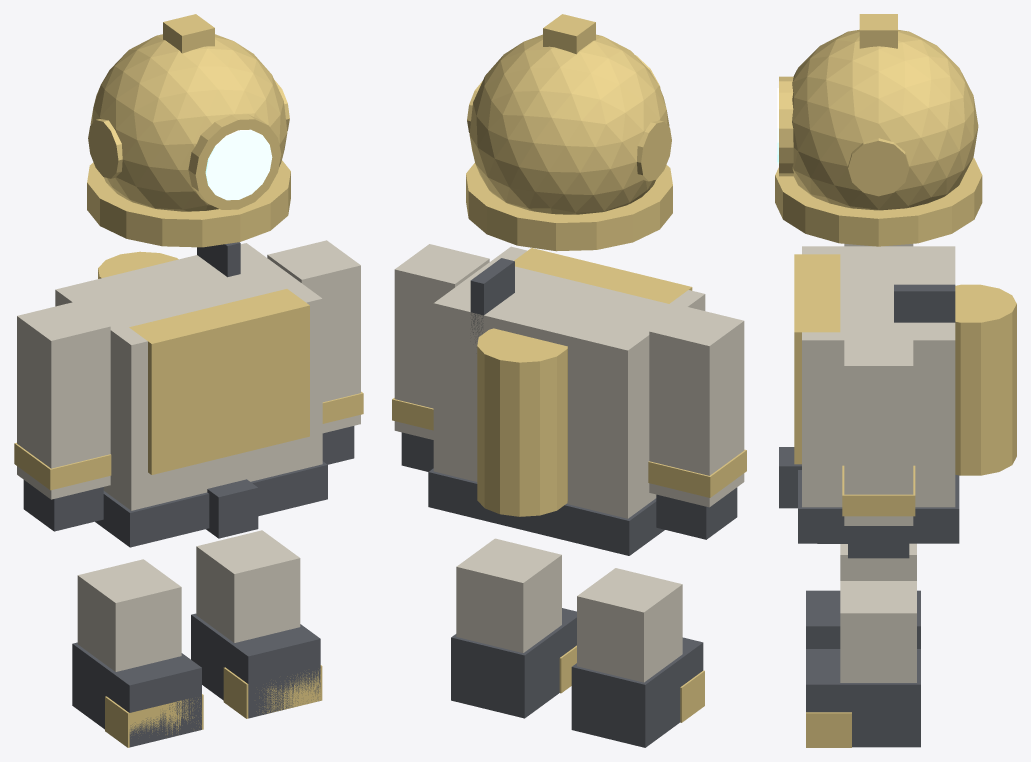
Rendered from deep-sea-diver.glb.
3 renders of one model, left to right at view 1: azimuth 30°, elevation 25°; view 2: azimuth 150°, elevation 25°; view 3: azimuth 270°, elevation 25°, orthographic.
Parts seen in each view (by area): view 1: Breastplate, SuitTorso, DiverHelmet, Sleeve_L, SuitLeg_R, SuitLeg_L, BreastplateCollar, LeadBoot_L, LeadBoot_R, Sleeve_R, WeightBelt, PortholeGlass (+12 smaller); view 2: SuitTorso, DiverHelmet, AirTank, Sleeve_L, SuitLeg_L, SuitLeg_R, BreastplateCollar, LeadBoot_L, Sleeve_R, LeadBoot_R, WeightBelt, Breastplate (+8 smaller); view 3: DiverHelmet, SuitTorso, Sleeve_R, AirTank, BreastplateCollar, SuitLeg_R, LeadBoot_R, Breastplate, WeightBelt, Port_R, AirHose, LeadBoot_L (+7 smaller).
Part boxes in pixels (box(x1,y1,x2,y2)): Breastplate: box(129, 289, 309, 474); SuitTorso: box(55, 243, 322, 510); DiverHelmet: box(90, 34, 287, 211); Sleeve_L: box(17, 301, 110, 499); SuitLeg_R: box(196, 530, 300, 642); SuitLeg_L: box(77, 559, 181, 671); BreastplateCollar: box(87, 160, 290, 247); LeadBoot_L: box(72, 642, 201, 747); LeadBoot_R: box(191, 613, 320, 718); Sleeve_R: box(267, 240, 360, 433); WeightBelt: box(95, 461, 327, 547); PortholeGlass: box(205, 129, 272, 200); SuitTorso: box(433, 246, 705, 518); DiverHelmet: box(469, 34, 669, 214); AirTank: box(477, 328, 567, 516); Sleeve_L: box(649, 306, 744, 507); SuitLeg_L: box(577, 568, 682, 682); SuitLeg_R: box(456, 538, 561, 652); BreastplateCollar: box(466, 163, 672, 251); LeadBoot_L: box(571, 637, 703, 747); Sleeve_R: box(394, 244, 489, 439); LeadBoot_R: box(451, 608, 576, 718); WeightBelt: box(428, 468, 664, 555); Breastplate: box(514, 248, 692, 303); DiverHelmet: box(792, 29, 978, 210); SuitTorso: box(802, 246, 955, 507); Sleeve_R: box(844, 337, 913, 525); AirTank: box(955, 284, 1016, 475); BreastplateCollar: box(775, 158, 982, 246); SuitLeg_R: box(840, 581, 916, 682); LeadBoot_R: box(806, 649, 920, 747); Breastplate: box(794, 254, 840, 464); WeightBelt: box(798, 470, 959, 543); Port_R: box(848, 138, 909, 196); AirHose: box(894, 284, 955, 322); LeadBoot_L: box(806, 590, 920, 648).
Bounding box in the file's own units: 0.95 × 1.95 × 0.63.
